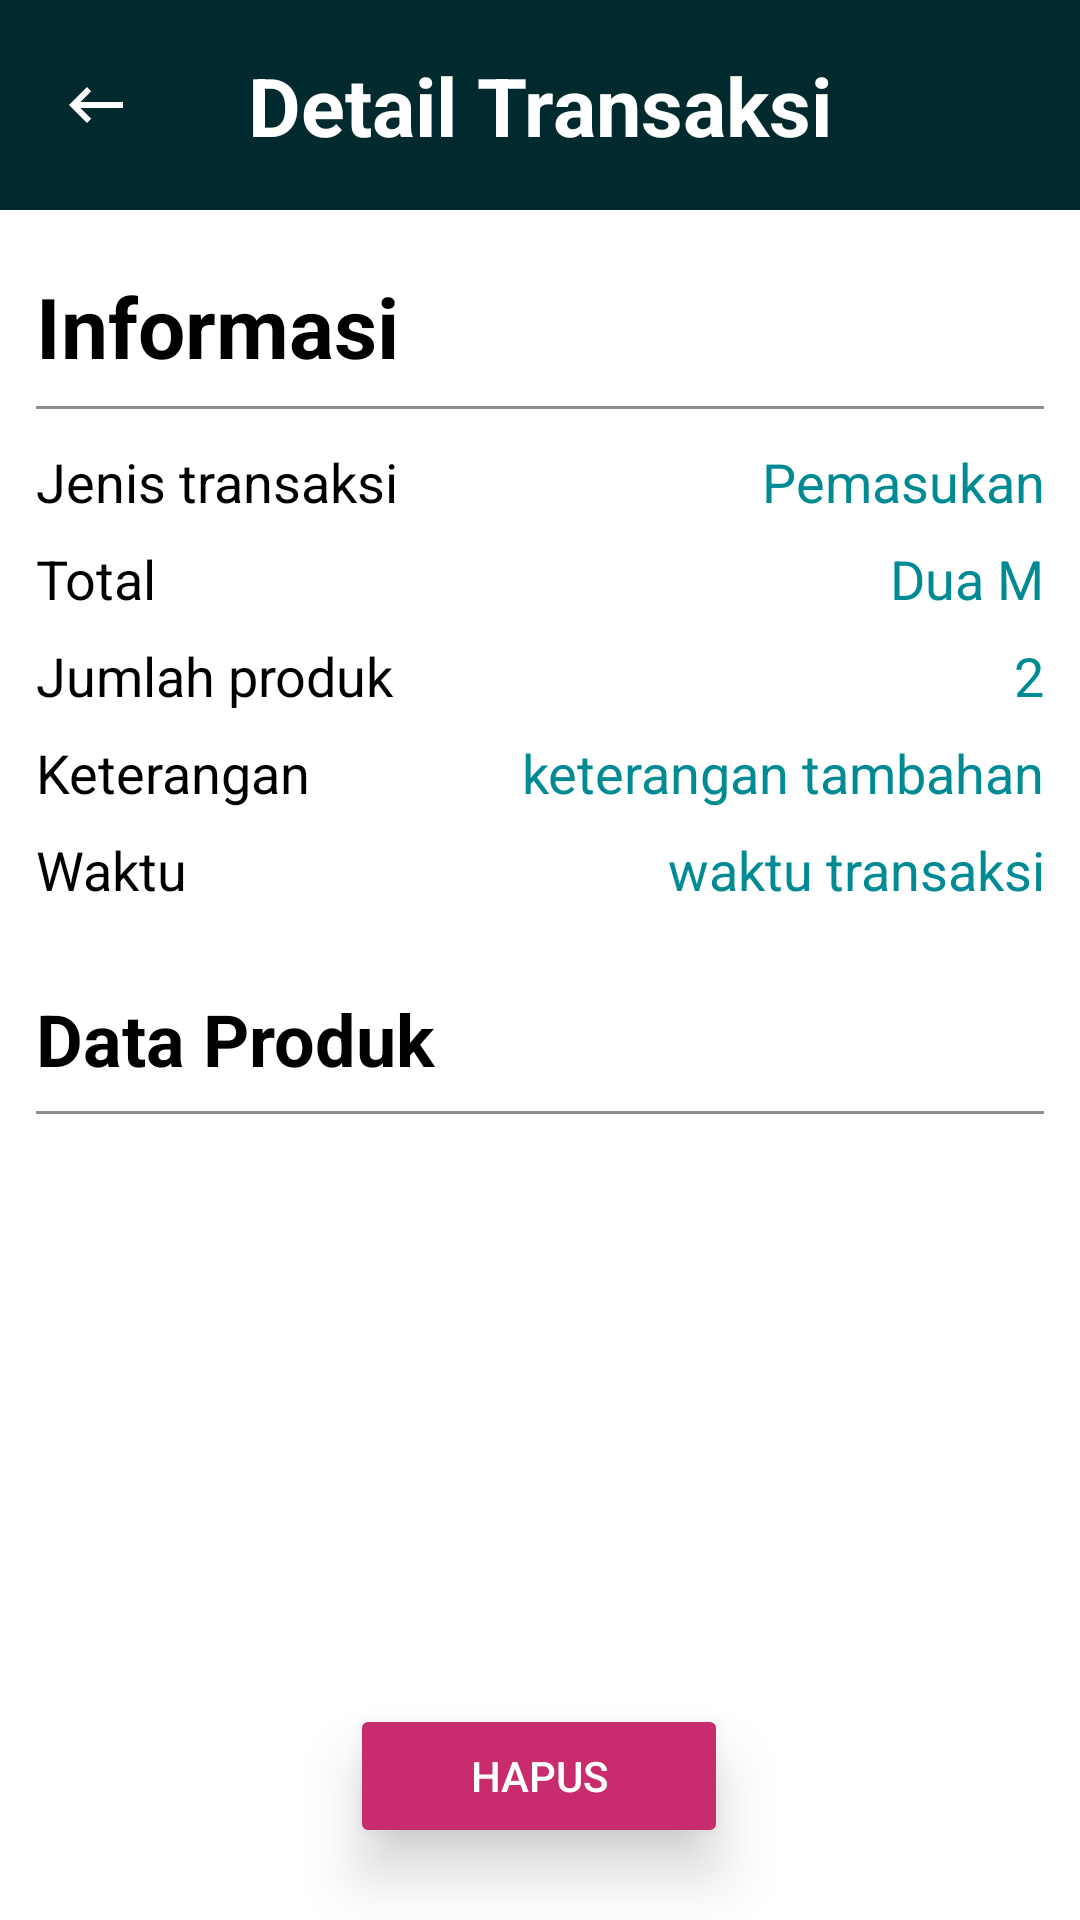

Icons on this 1080px x 1920px Android screen, each with its box as (x1, y1, x2, y2):
back arrow: (69, 87, 123, 123)
